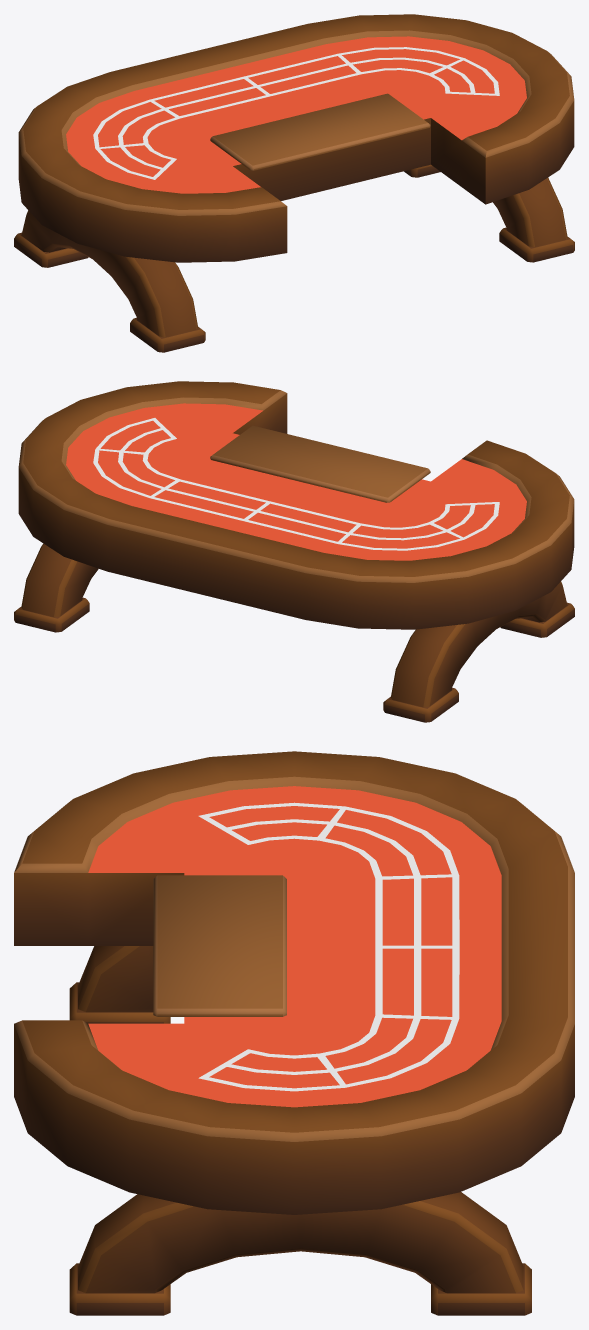
File: Baccarat_02.fbx
The picture shows the model from 3 angles, top to bottom: view 1: azimuth 30°, elevation 25°; view 2: azimuth 150°, elevation 25°; view 3: azimuth 270°, elevation 25°; orthographic projection. The views are drawn at different scales.
Visible parts, largest first — view 1: Baccarat_02; view 2: Baccarat_02; view 3: Baccarat_02.
Boxes of the visible parts, <box> form: Baccarat_02: <box>14,14,574,352</box>; Baccarat_02: <box>14,381,574,722</box>; Baccarat_02: <box>14,751,574,1315</box>.
Bounding box in the file's own units: 3.28 × 2.01 × 0.8492.
